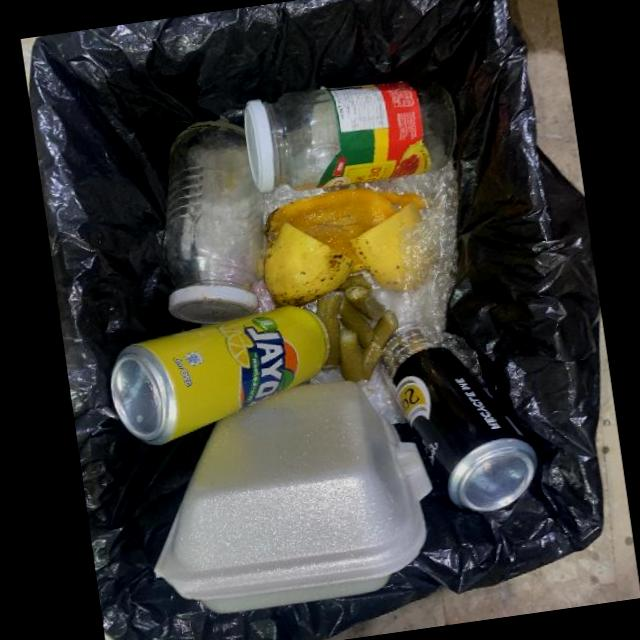chai_thuy_tinh: (244, 80, 456, 192), (162, 120, 266, 325)
nhom: (110, 305, 330, 445), (378, 325, 537, 512)
thuc_an_thua: (316, 270, 399, 382)
tui_ni_long: (365, 161, 458, 333), (359, 363, 406, 424), (442, 334, 483, 382)
vo_trai_cay: (264, 188, 430, 308)
xop: (153, 380, 433, 613)
